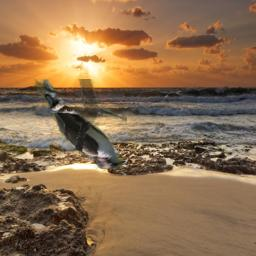Cuckoo: (33, 79, 127, 169)
